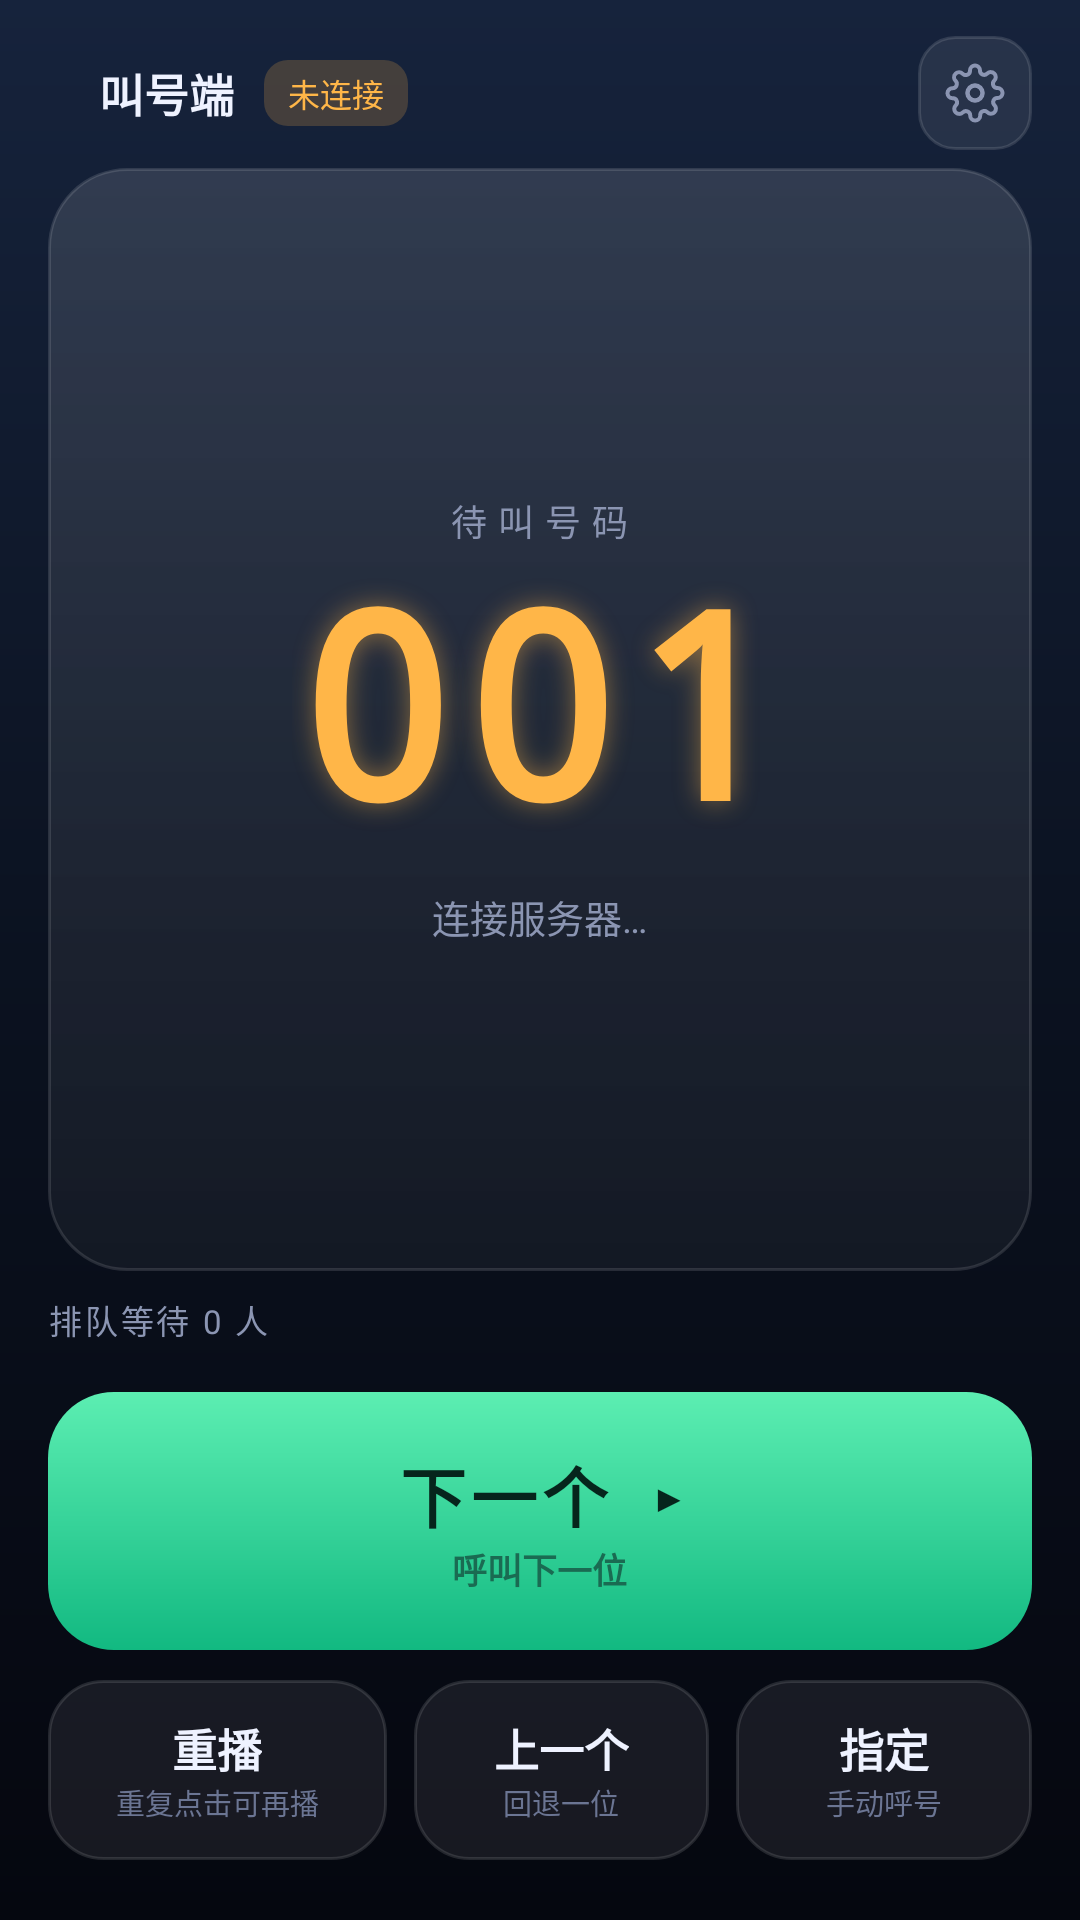

Icon bounding boxes for this 1080*1920 phone screenshot, format (x1, y1, x2, y2):
设置: (918, 36, 1032, 150)
